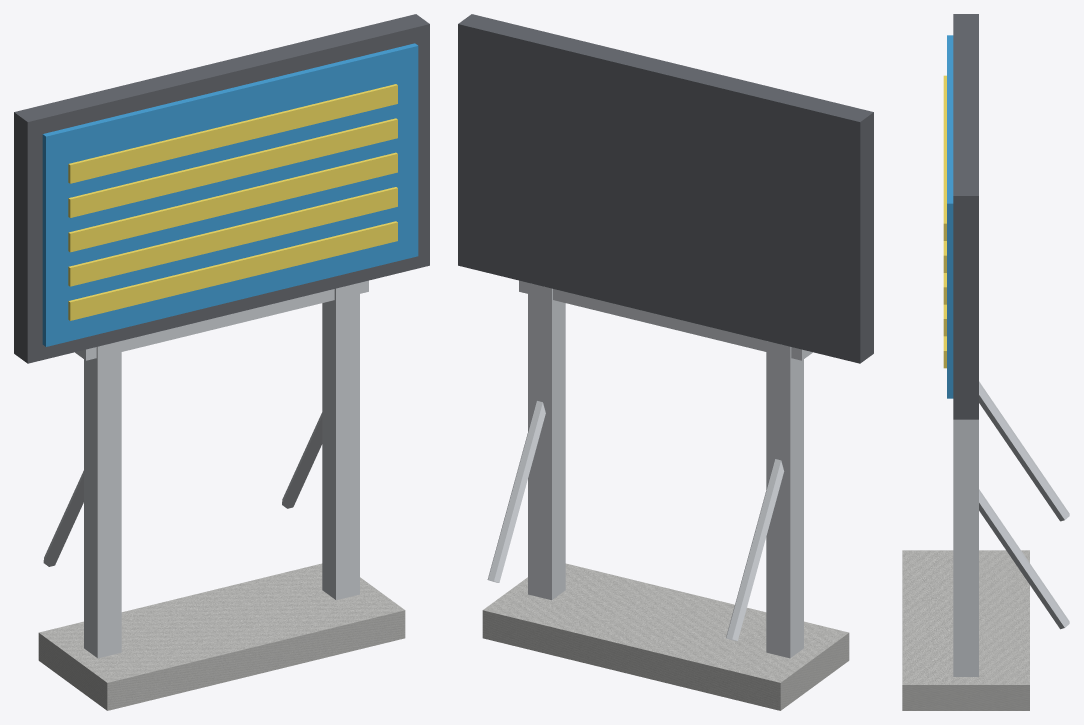
File: go-kart-track-and-pit-lane-scoring-screen-stand-e48b73a6__34354.glb
3 renders of one model, left to right at view 1: azimuth 30°, elevation 25°; view 2: azimuth 150°, elevation 25°; view 3: azimuth 270°, elevation 25°, orthographic. The views are drawn at different scales.
Visible parts, largest first — view 1: screen/azure, screen/canary, scoring-screen-stand-steel, scoring-screen-stand-concrete, screen/charcoal; view 2: screen/charcoal, scoring-screen-stand-steel, scoring-screen-stand-concrete; view 3: scoring-screen-stand-concrete, scoring-screen-stand-steel, screen/charcoal, screen/azure, screen/canary.
Boxes of the visible parts, bbox=[...] form: screen/azure: bbox=[42, 43, 418, 346]; screen/canary: bbox=[68, 84, 397, 320]; scoring-screen-stand-steel: bbox=[43, 280, 368, 658]; scoring-screen-stand-concrete: bbox=[38, 563, 405, 710]; screen/charcoal: bbox=[14, 14, 429, 363]; screen/charcoal: bbox=[458, 14, 873, 363]; scoring-screen-stand-steel: bbox=[487, 280, 812, 658]; scoring-screen-stand-concrete: bbox=[482, 563, 849, 710]; scoring-screen-stand-concrete: bbox=[902, 550, 1029, 710]; scoring-screen-stand-steel: bbox=[953, 381, 1069, 676]; screen/charcoal: bbox=[953, 14, 978, 419]; screen/azure: bbox=[947, 35, 953, 398]; screen/canary: bbox=[943, 75, 946, 368].
Size of the model in its own units: 2.7 by 3.73 by 1.05.
Materials: 5 (1 with a texture image).
